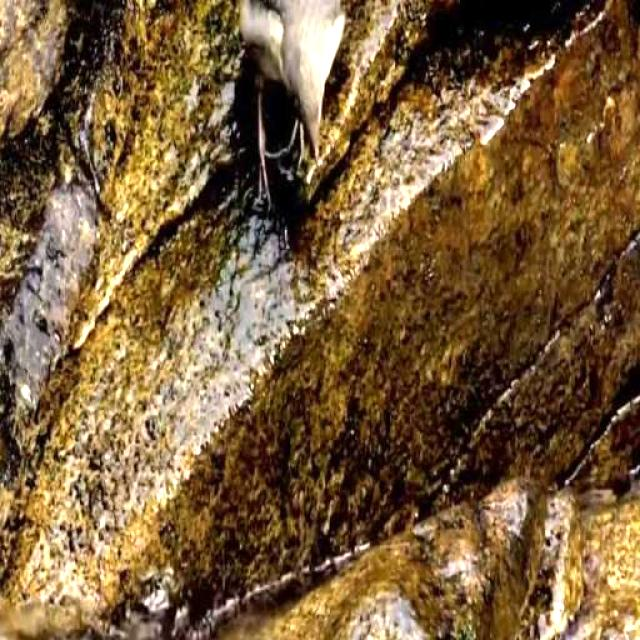airplane: (201, 0, 354, 201)
